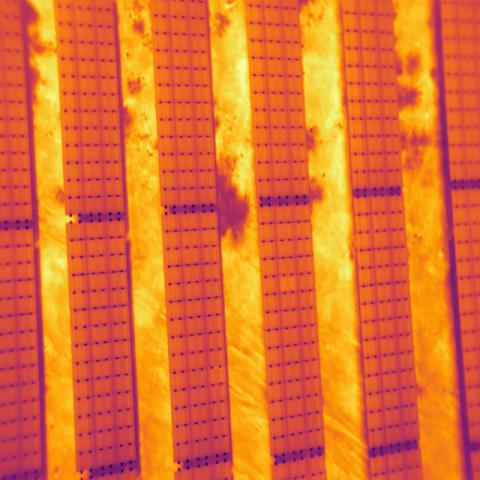fault: (278, 275, 298, 296)
